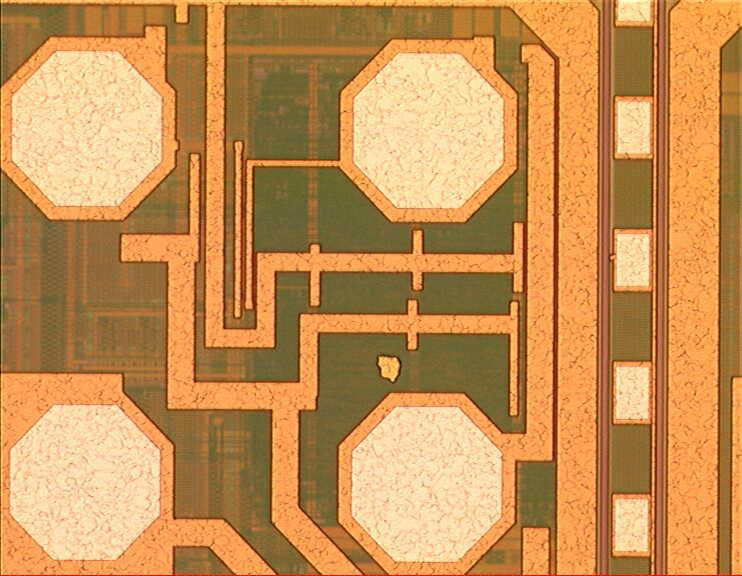BLOCK ETCH: (369, 346, 413, 390)
